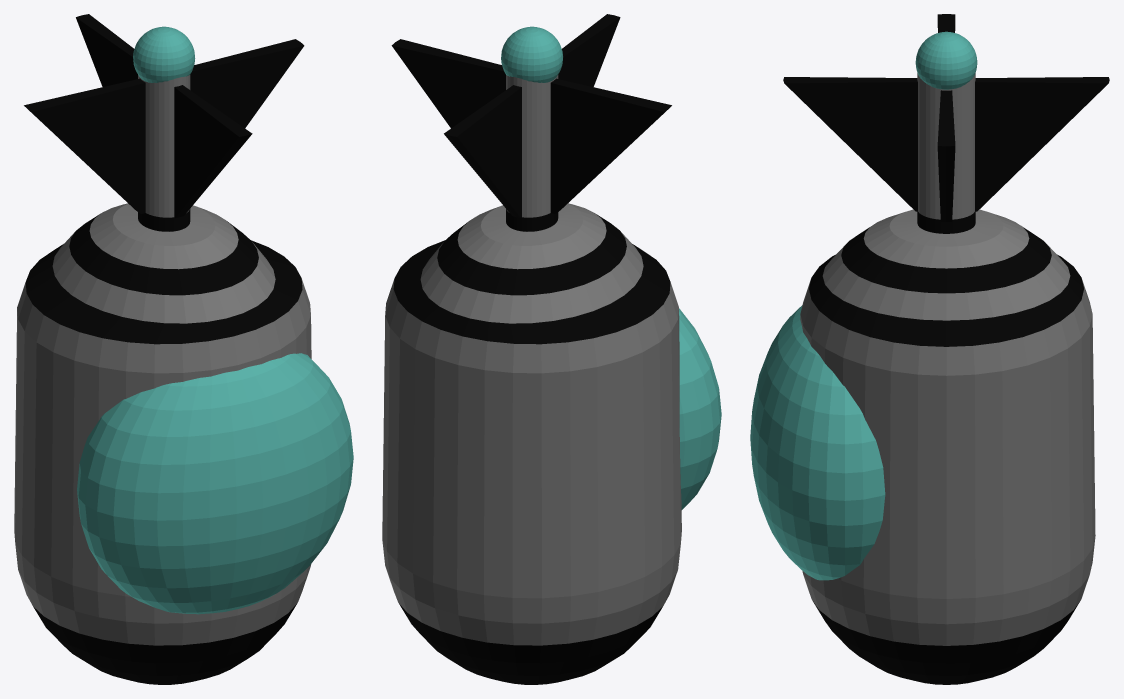
File: Dropinomicon.fbx
3 renders of one model, left to right at view 1: azimuth 30°, elevation 25°; view 2: azimuth 150°, elevation 25°; view 3: azimuth 270°, elevation 25°, orthographic.
Visible parts, largest first — view 1: Sphere.002, Sphere.003, Sphere.004; view 2: Sphere.002, Sphere.003, Sphere.004; view 3: Sphere.002, Sphere.003, Sphere.004.
Part boxes in pixels (x1,y1,x2,y2): Sphere.002: (14,14,311,684); Sphere.003: (77,353,353,614); Sphere.004: (133,26,195,82); Sphere.002: (382,14,681,684); Sphere.003: (679,308,721,509); Sphere.004: (501,26,562,82); Sphere.002: (783,14,1109,684); Sphere.003: (750,305,885,580); Sphere.004: (915,31,977,89).
Size of the model in its own units: 210 by 471 by 241.
